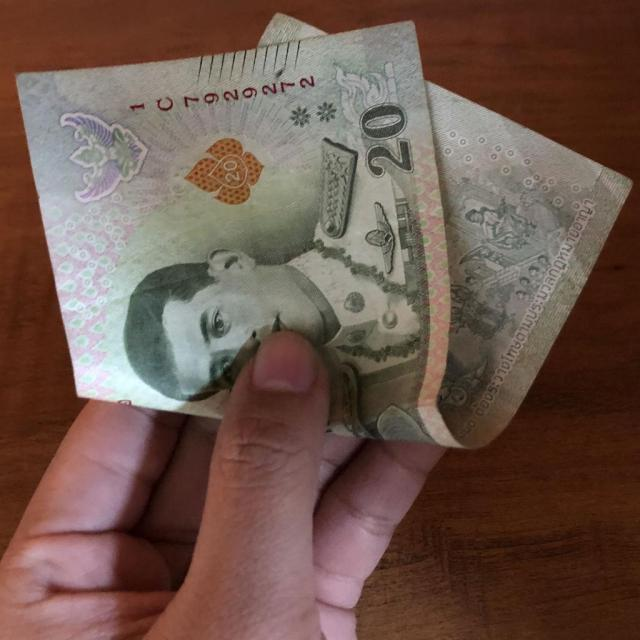THAI20: (14, 14, 628, 453)
